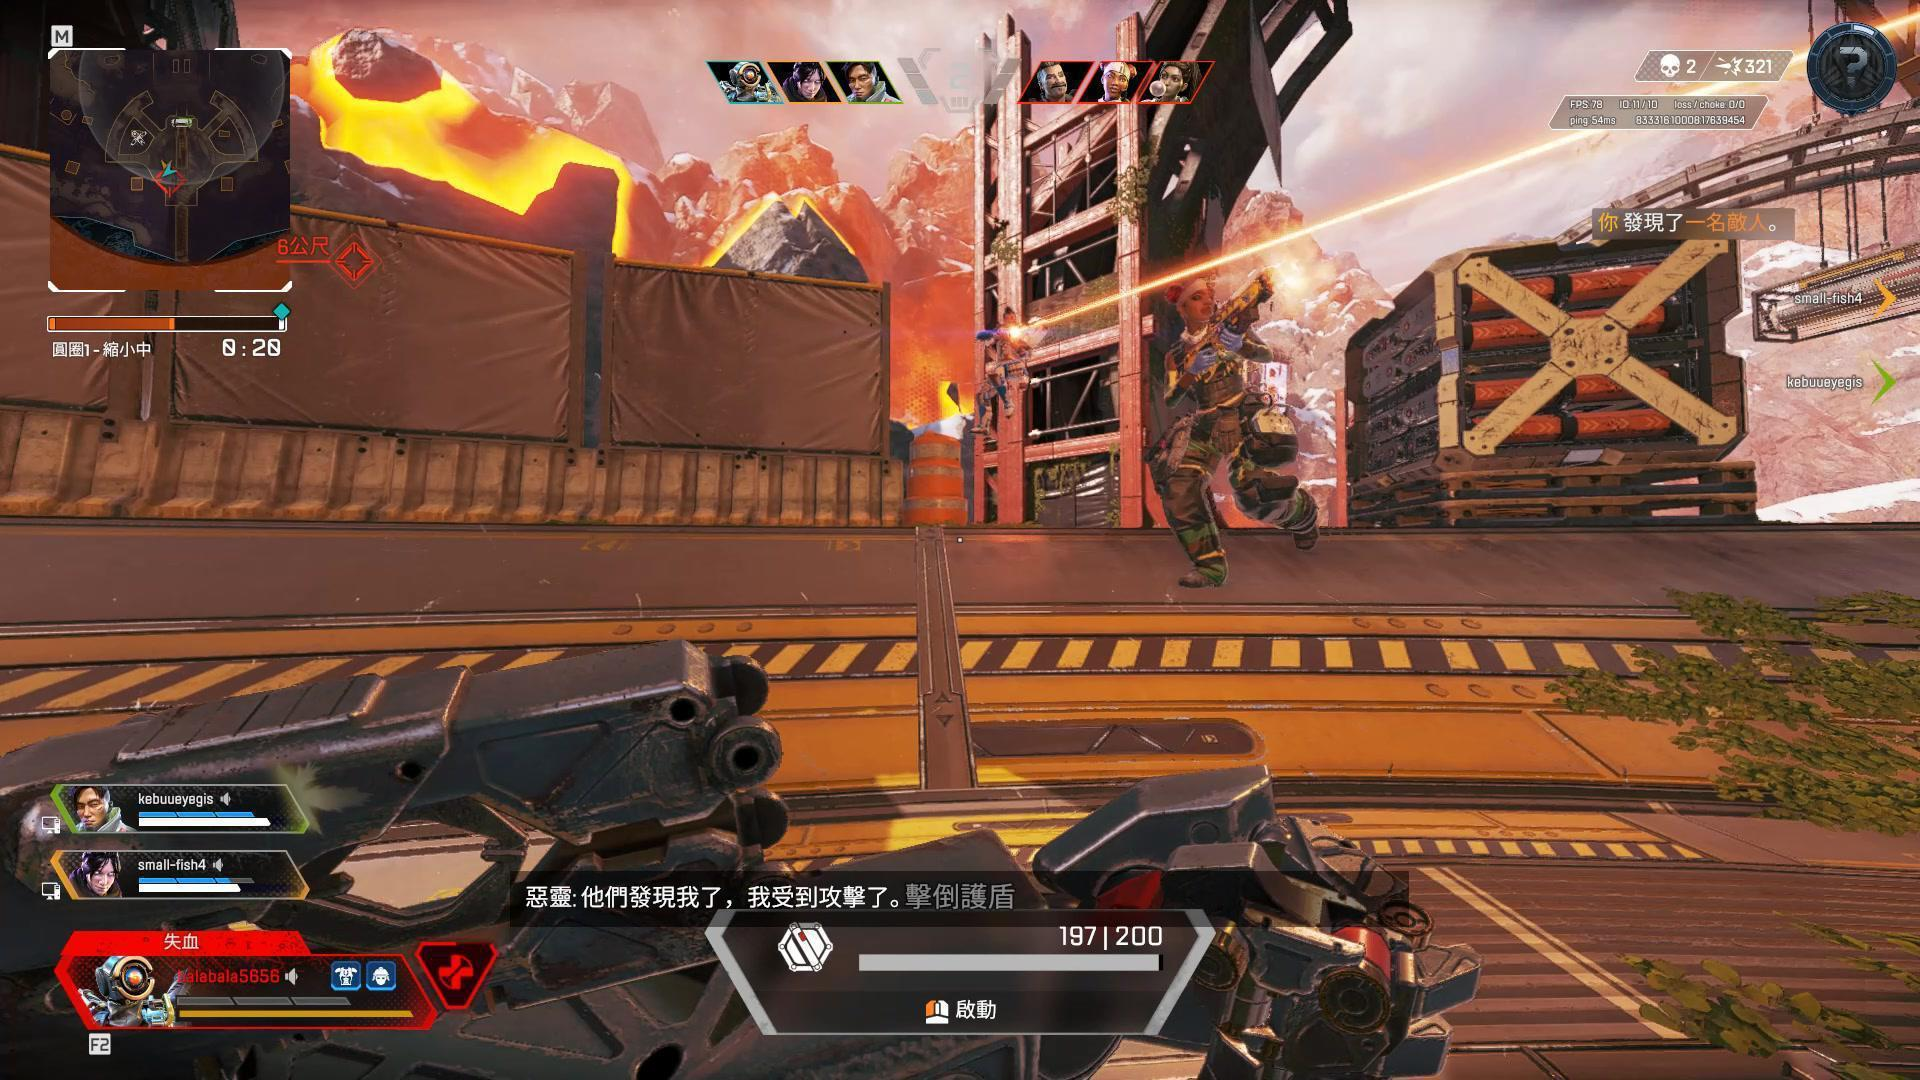avatar: (1148, 271, 1322, 594)
